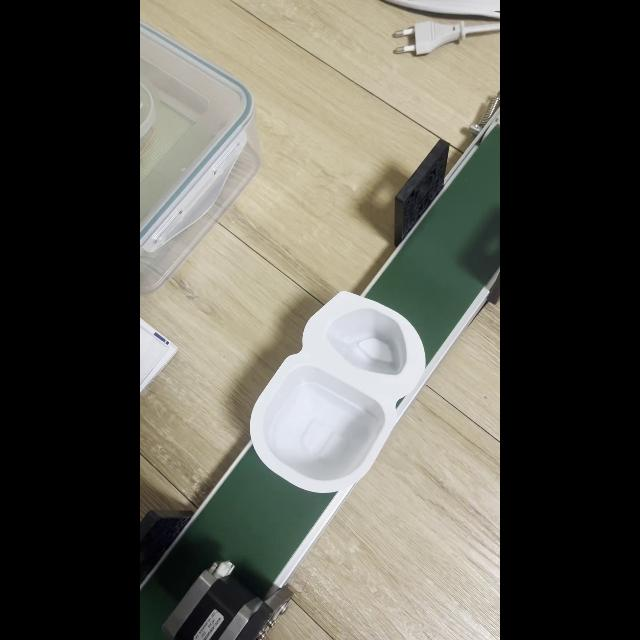clean: (273, 308, 421, 472)
